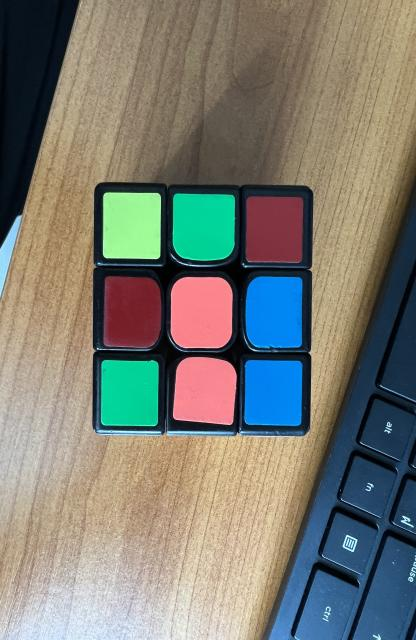Blue: (245, 276, 302, 349), (245, 360, 302, 426)
Green: (172, 194, 235, 261), (101, 360, 158, 426)
Orange: (170, 276, 233, 349), (172, 358, 236, 425)
Red: (103, 276, 161, 348), (246, 196, 303, 262)
Yellow: (103, 192, 161, 259)
